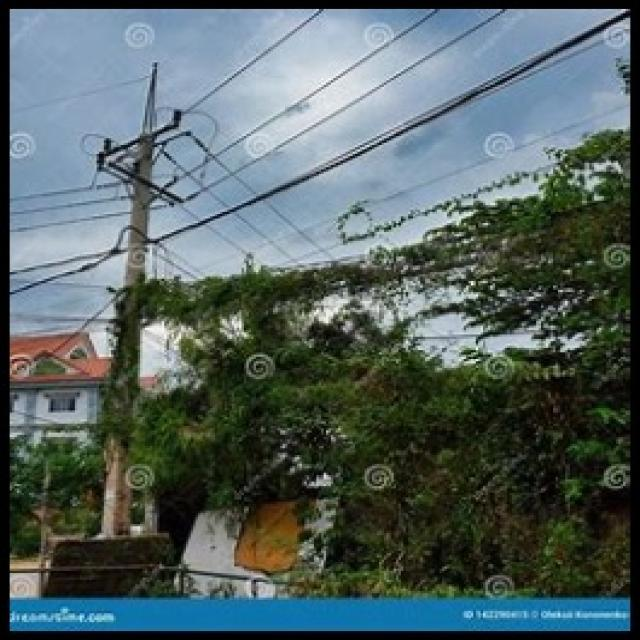critical vegetation: (135, 229, 640, 375)
